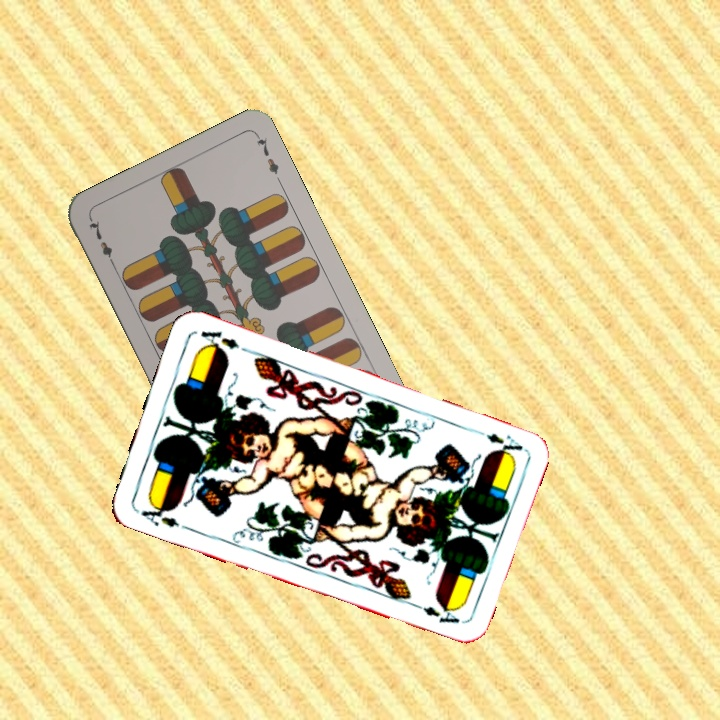E7: (84, 215, 118, 270)
EA: (469, 424, 526, 460), (137, 497, 183, 530)
